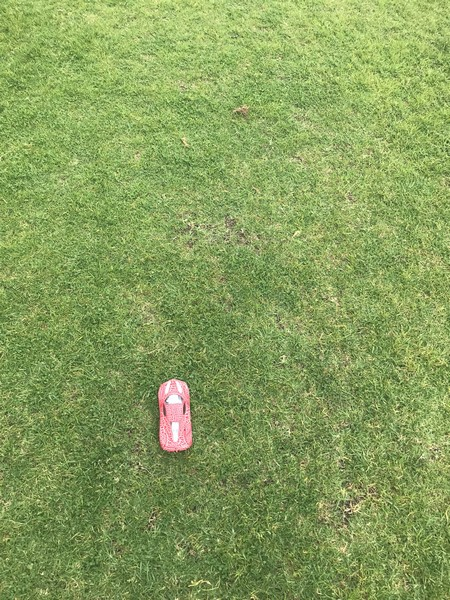RC: (156, 378, 196, 454)
